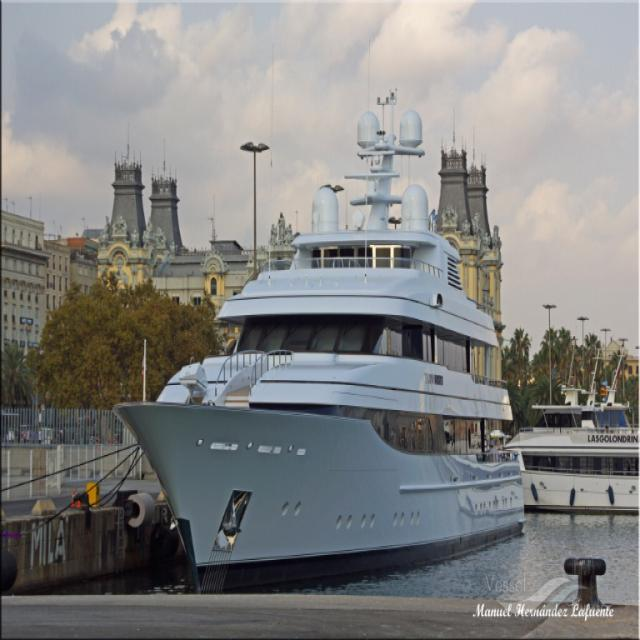Yacht: (111, 86, 524, 570), (518, 374, 640, 521)
